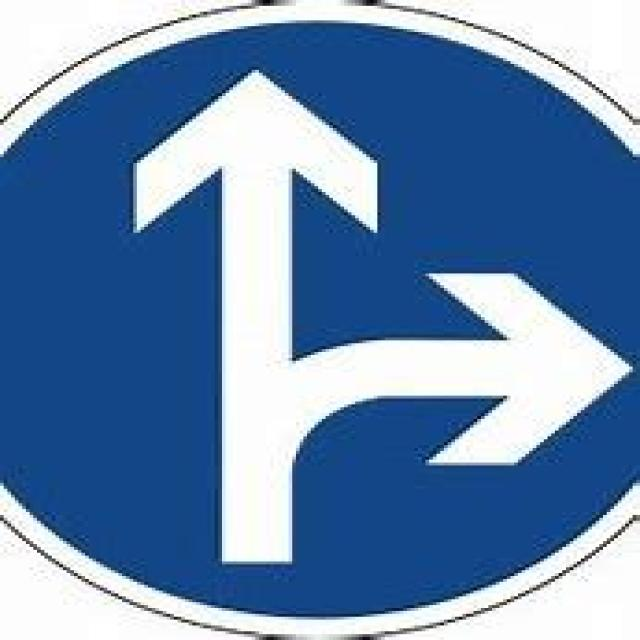compulsory_ahead_or_left: (0, 0, 636, 634)
